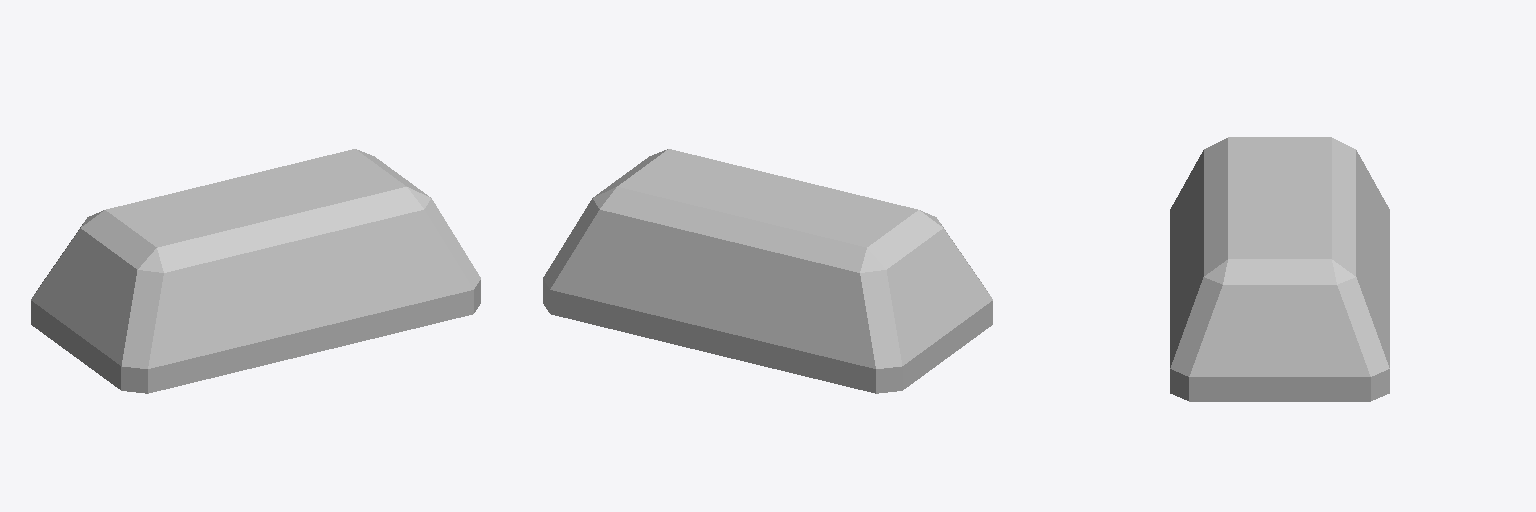
The model's file is cast_iron_item.obj.
The picture shows the model from 3 angles: view 1: azimuth 30°, elevation 25°; view 2: azimuth 150°, elevation 25°; view 3: azimuth 270°, elevation 25°; orthographic projection.
Parts seen in each view (by area): view 1: cast_iron_cast_iron_item; view 2: cast_iron_cast_iron_item; view 3: cast_iron_cast_iron_item.
Part boxes in pixels (left/top/right/bottom): cast_iron_cast_iron_item: left=31, top=149, right=480, bottom=393; cast_iron_cast_iron_item: left=543, top=149, right=992, bottom=393; cast_iron_cast_iron_item: left=1170, top=137, right=1389, bottom=401.
Bounding box in the file's own units: 0.2308 × 0.0708 × 0.1221.